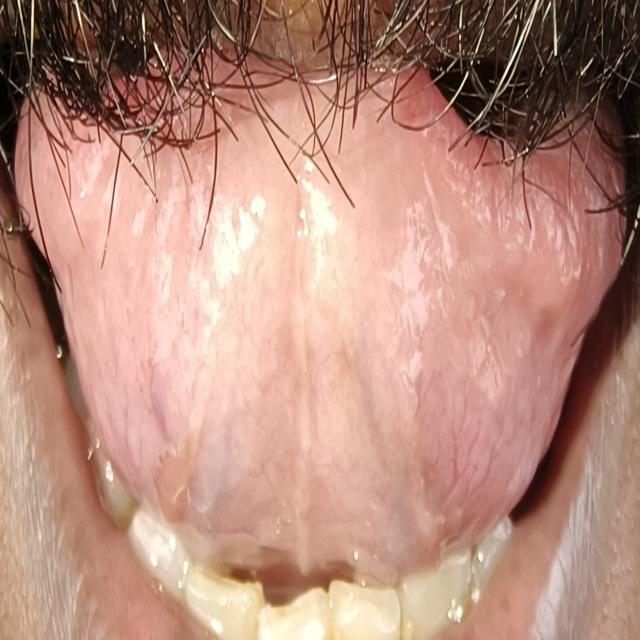processing_area: (35, 132, 615, 576)
